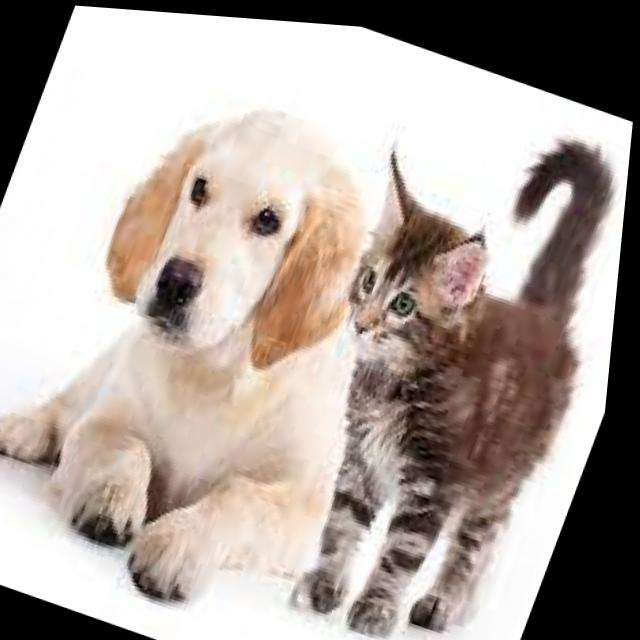Cat: (263, 148, 630, 640)
Dog: (0, 43, 415, 616)
